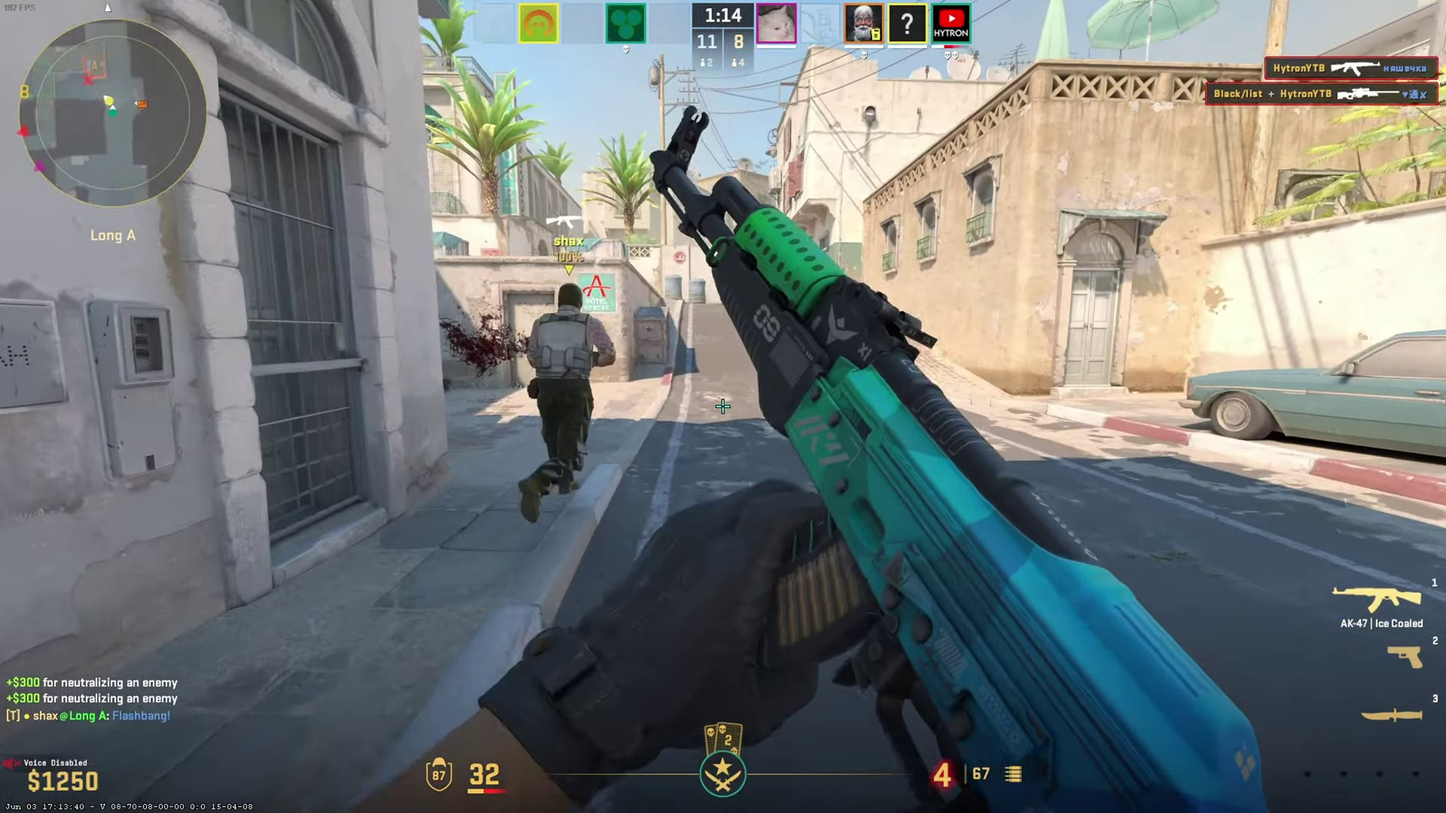Terrorist: (532, 283, 604, 513)
